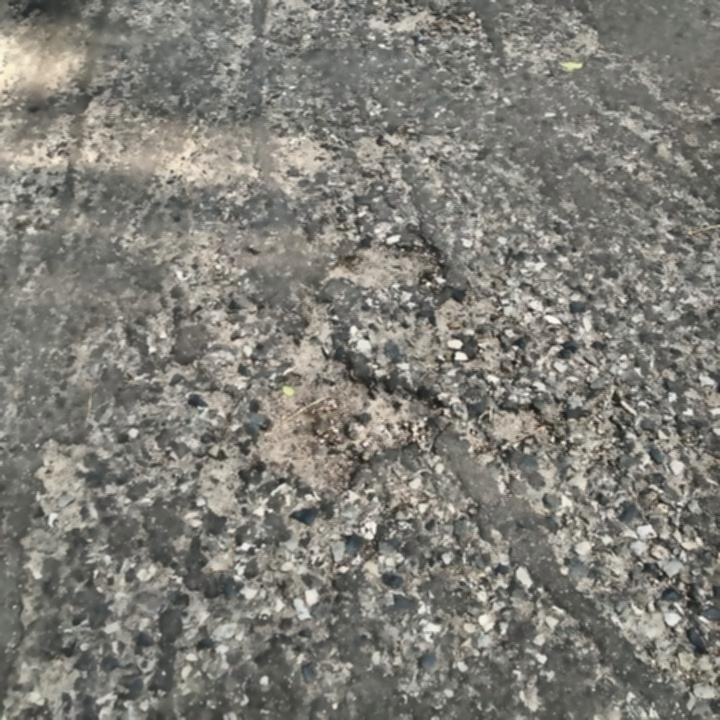pothole: (254, 334, 450, 493), (328, 236, 449, 296), (486, 401, 558, 445)
